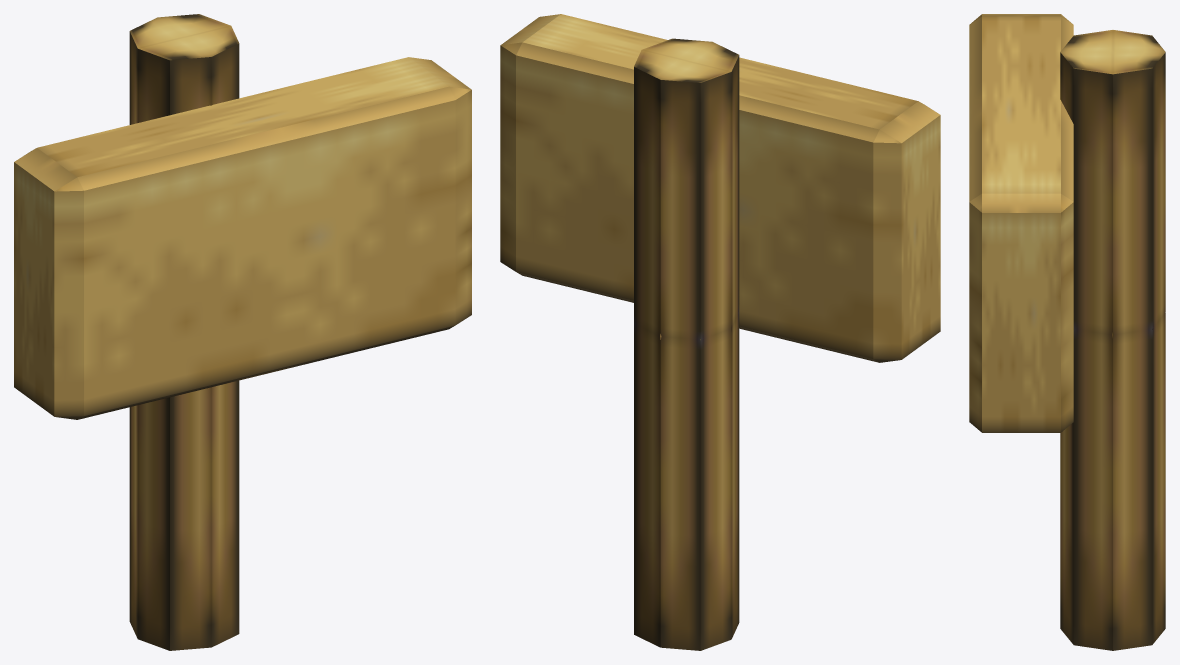
File: Poly_World_Map_Sign_01.obj
The picture shows the model from 3 angles, left to right: view 1: azimuth 30°, elevation 25°; view 2: azimuth 150°, elevation 25°; view 3: azimuth 270°, elevation 25°; orthographic projection. The views are drawn at different scales.
Visible parts, largest first — view 1: Grid.002; view 2: Grid.002; view 3: Grid.002.
Part boxes in pixels (x1,y1,x2,y2): Grid.002: (14,14,471,650); Grid.002: (500,14,940,650); Grid.002: (969,14,1165,650).
Bounding box in the file's own units: 0.2388 × 0.3229 × 0.0997.
1 material, 1 textured.
